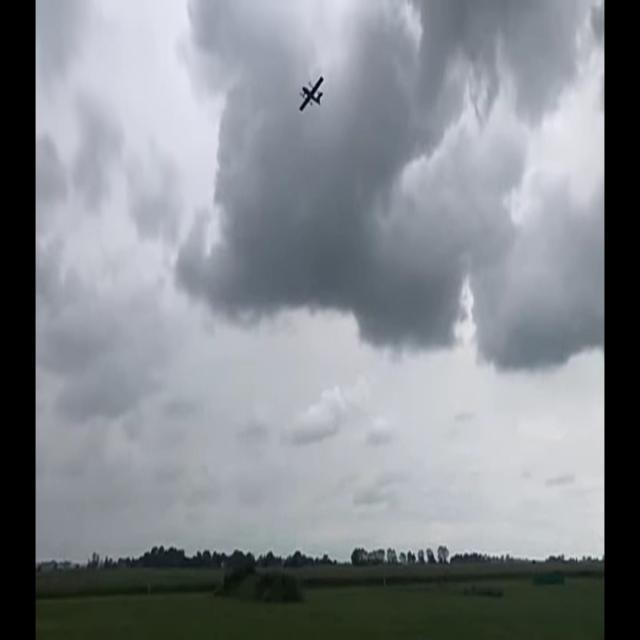iha: (299, 11, 324, 49)
